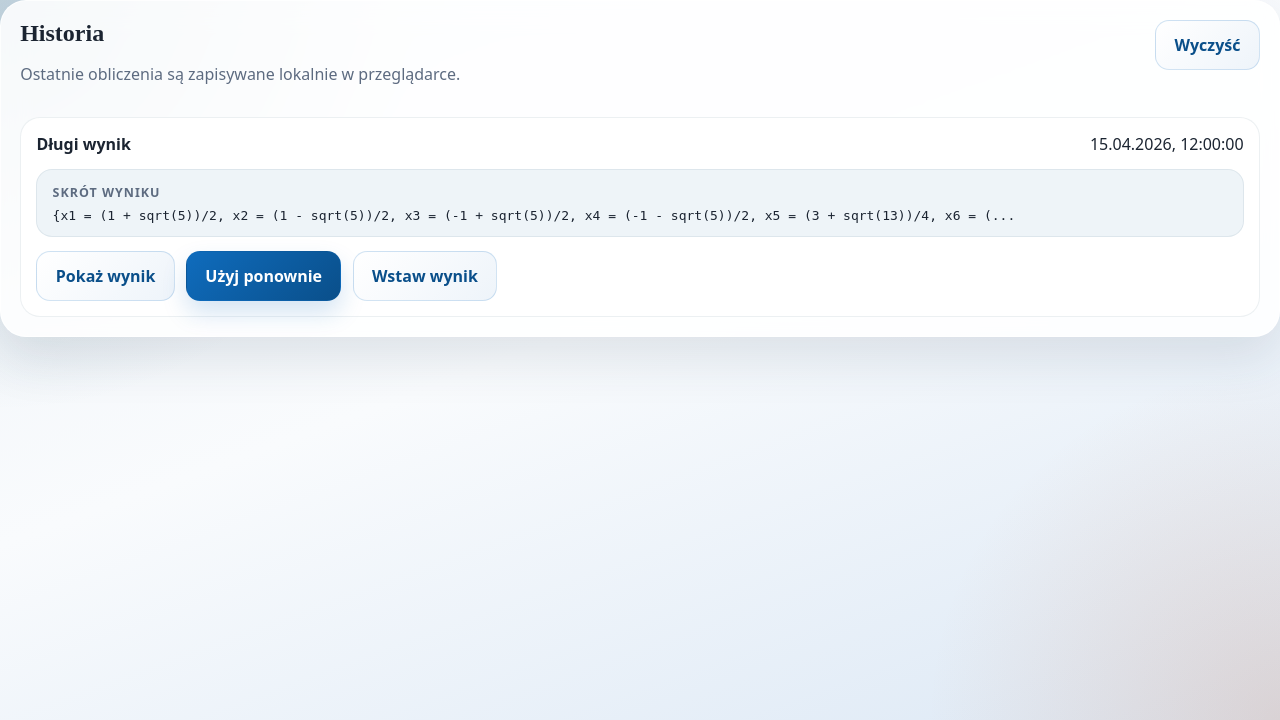
Scenario: HistoryPanel › zwija długie wyniki i pozwala je rozwinąć na żądanie
The width and height of the screenshot is (1280, 720).
Check: the text "Skrót wyniku" is shown, box [53,184,160,201]
Click the button "Pokaż wynik": (106, 276) [36,251,175,300]
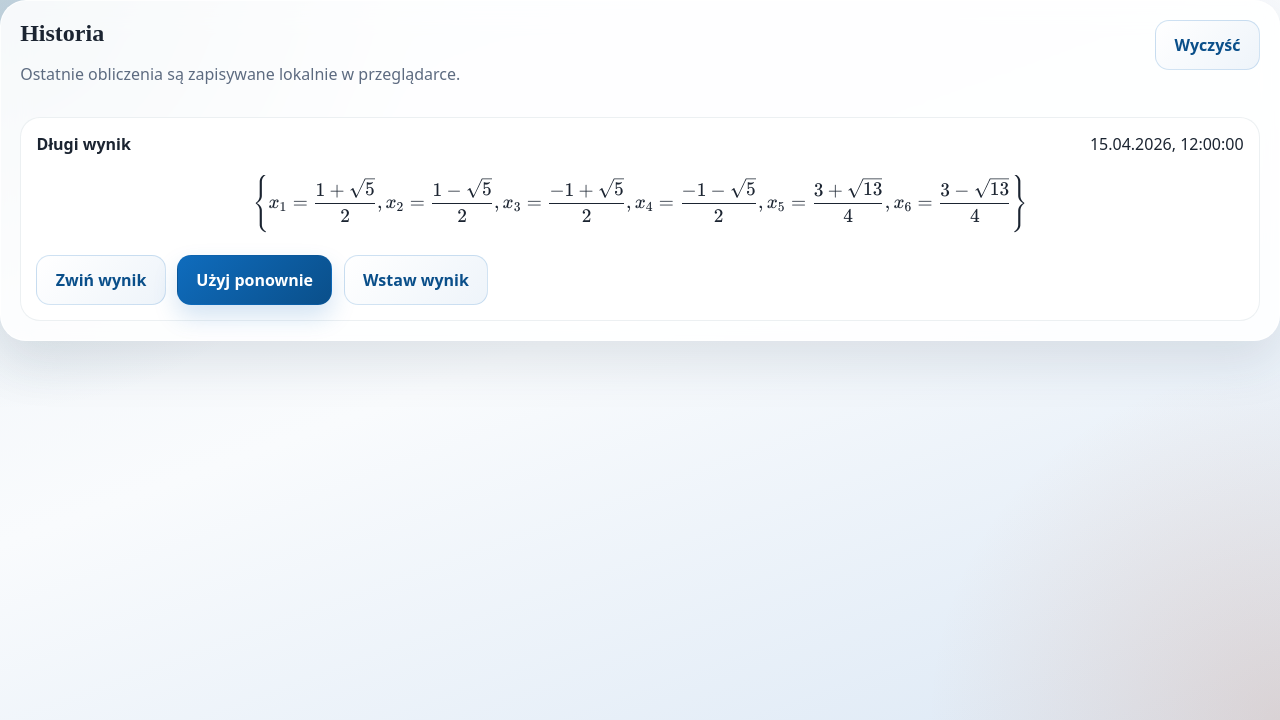
Check: the button "Zwiń wynik" is shown, box [36,255,166,305]
Check: the element with class "katex" is shown, box [253,175,1027,232]
